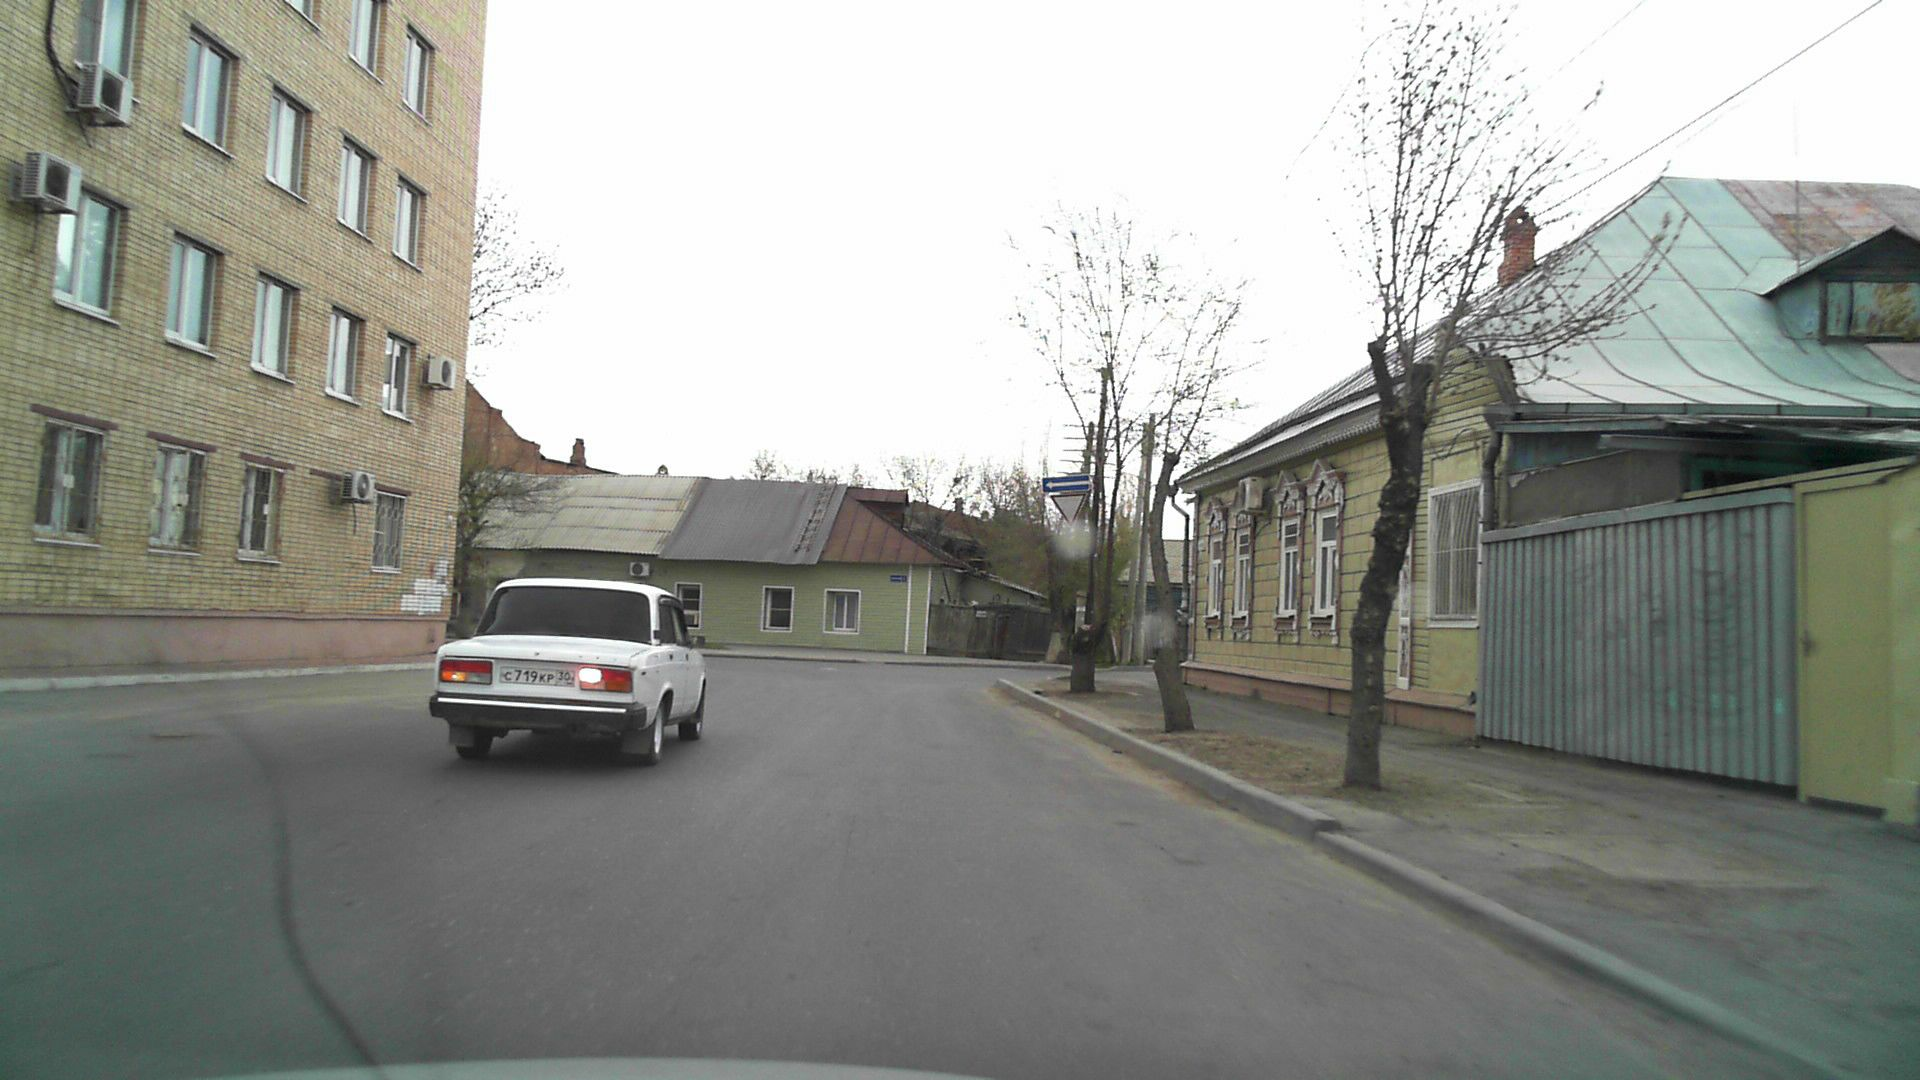One-Way Traffic: (1043, 475, 1091, 492)
